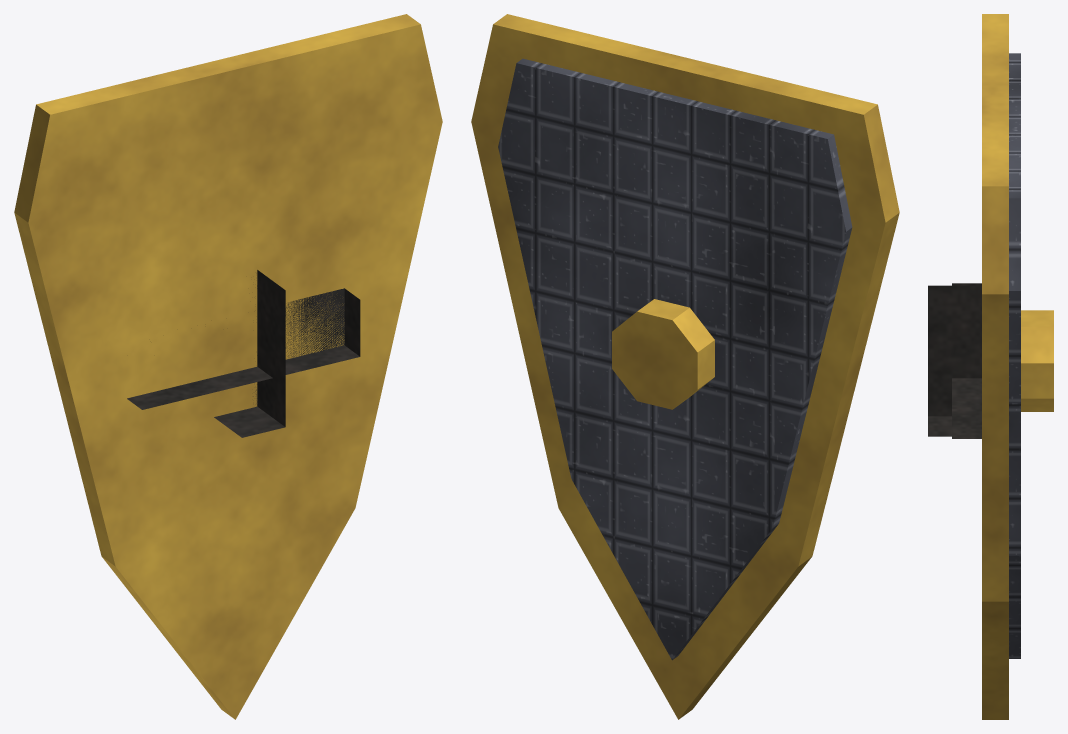
Rendered from valkyr_shield.glb.
3 renders of one model, left to right at view 1: azimuth 30°, elevation 25°; view 2: azimuth 150°, elevation 25°; view 3: azimuth 270°, elevation 25°, orthographic. The views are drawn at different scales.
Parts seen in each view (by area): view 1: valkyr_shield; view 2: valkyr_shield; view 3: valkyr_shield.
Boxes of the visible parts, <box> form: valkyr_shield: <box>14,14,442,719</box>; valkyr_shield: <box>471,14,899,719</box>; valkyr_shield: <box>928,14,1053,719</box>.
Bounding box in the file's own units: 0.76 × 1.14 × 0.21.
Materials: 3 (3 with a texture image).
